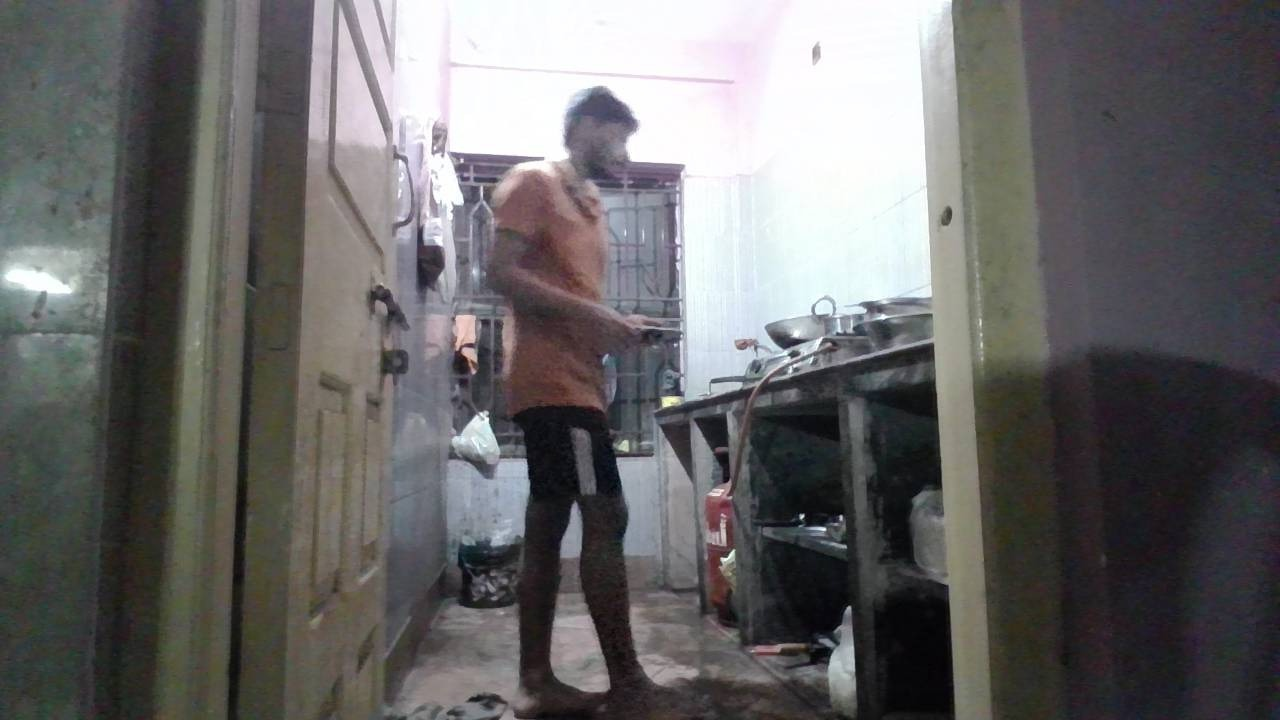red_box: (531, 366, 578, 405)
